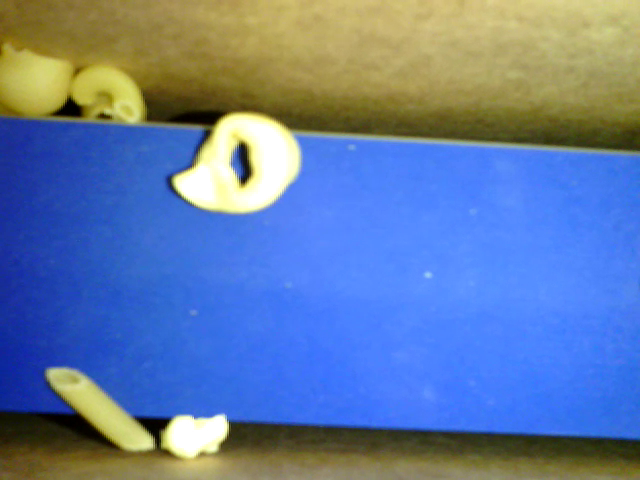elbow: (71, 64, 146, 122)
penne: (45, 366, 157, 452)
shell: (1, 37, 73, 116)
tortellini: (168, 112, 302, 212)
